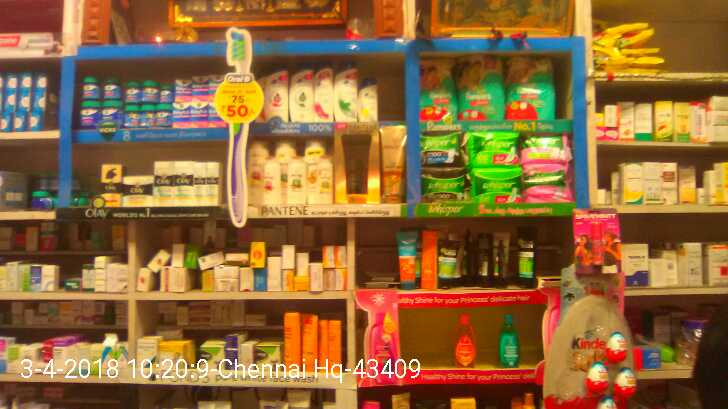vicks: (78, 72, 226, 129)
